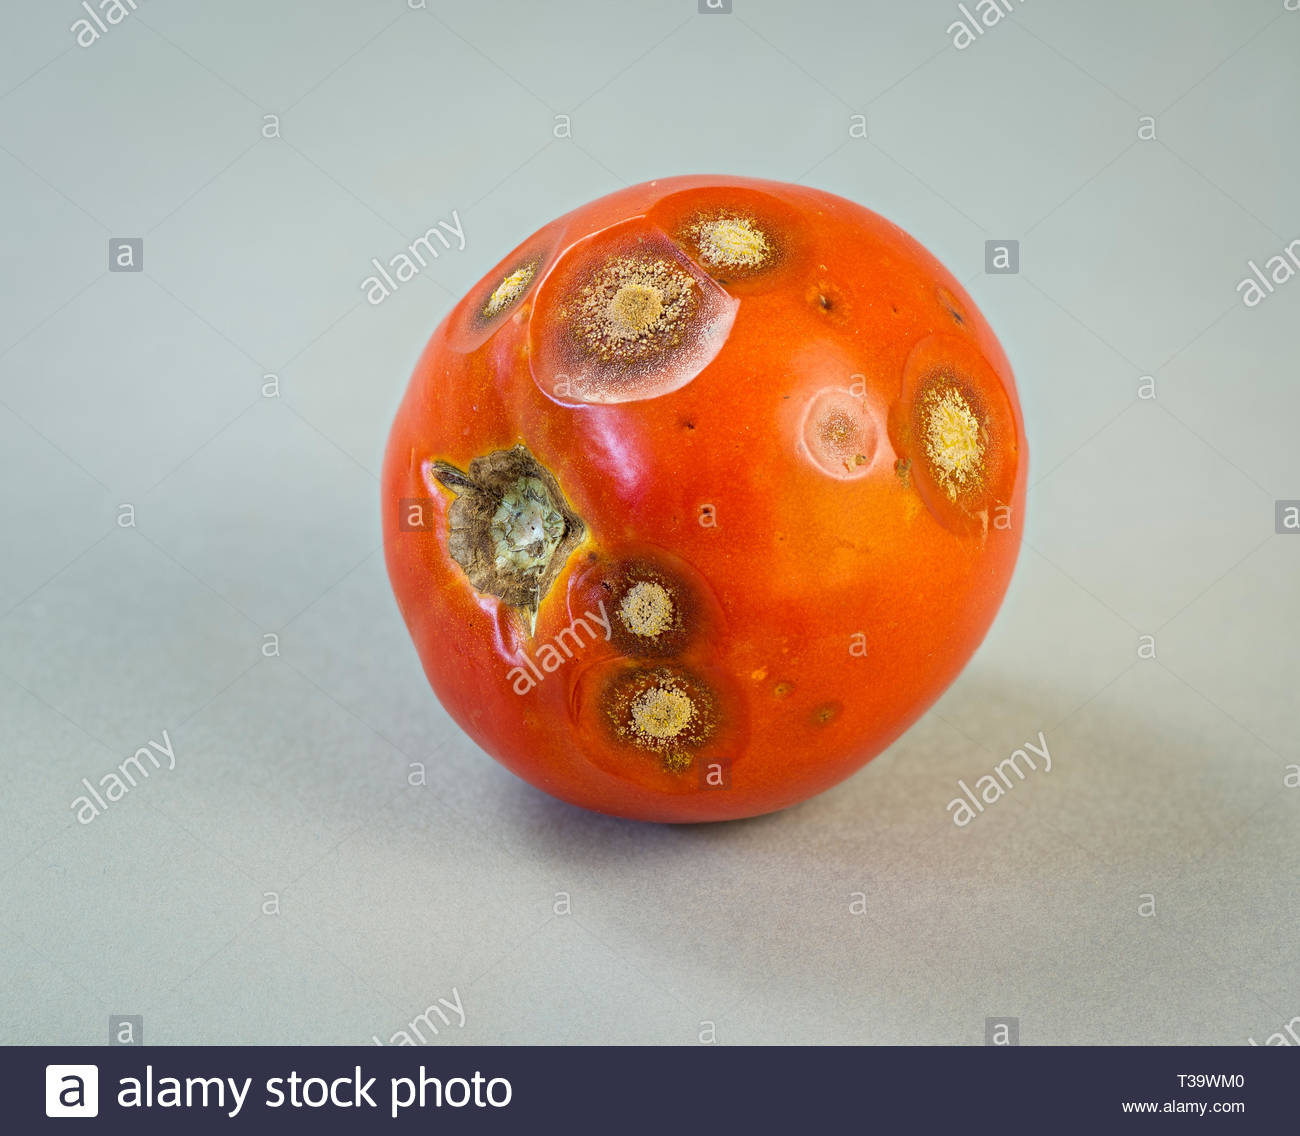anthracnose: (418, 200, 999, 806)
